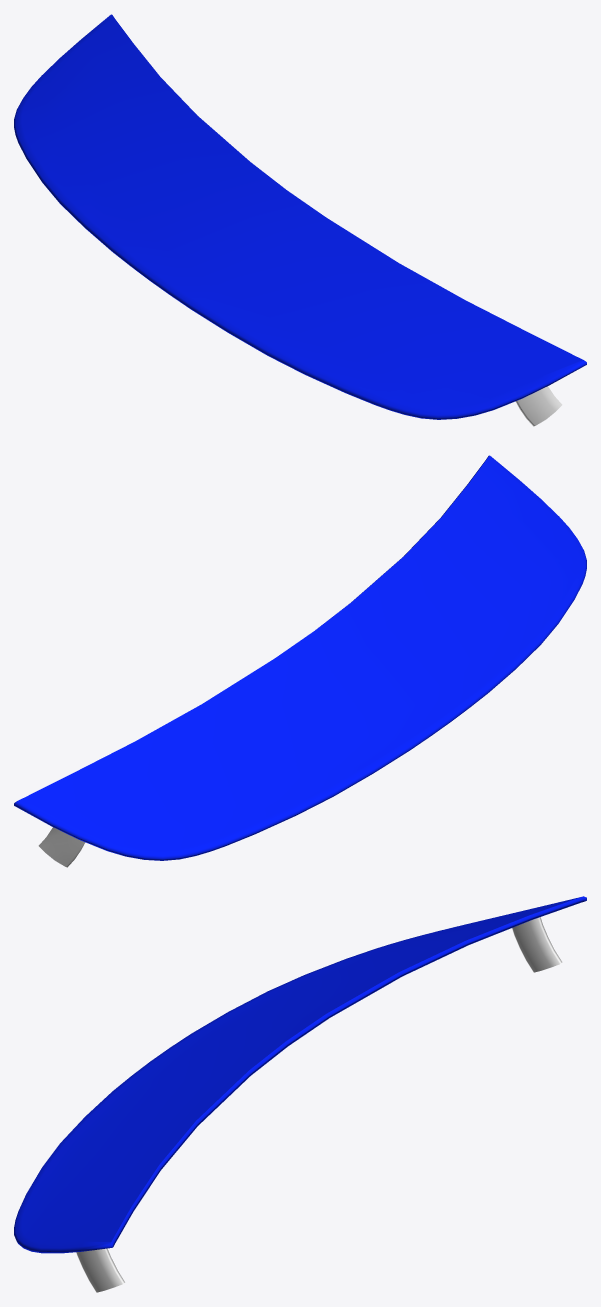
Rendered from Spoler_Active.obj.
3 views of the same model, one above another, from view 1: azimuth 30°, elevation 25°; view 2: azimuth 150°, elevation 25°; view 3: azimuth 330°, elevation 25° (orthographic).
Parts seen in each view (by area): view 1: Spoler_Active; view 2: Spoler_Active; view 3: Spoler_Active.
Boxes of the visible parts, x1,y1,x2,y2 form: Spoler_Active: (14, 14, 586, 426); Spoler_Active: (14, 455, 586, 867); Spoler_Active: (14, 896, 586, 1292).
Bounding box in the file's own units: 0.2671 × 0.1066 × 1.09.
